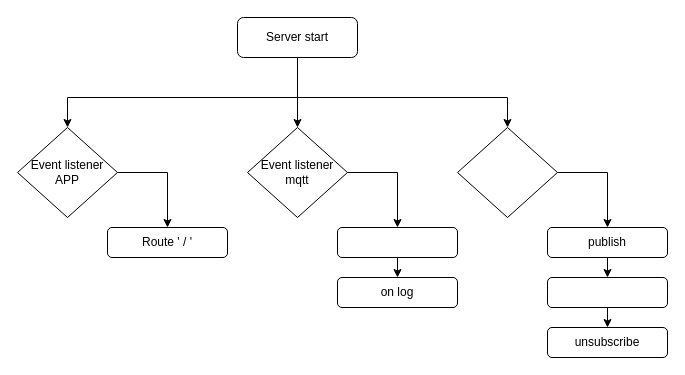
This 685x375 diagram has some shape labels left out. The shapes that lost their labels are listed below. From the top down, each one's centre as x and y in pixels, then its label:
At [507,172]: "Event listener socket".
At [397,242]: "on message".
At [607,292]: "subscribe".
